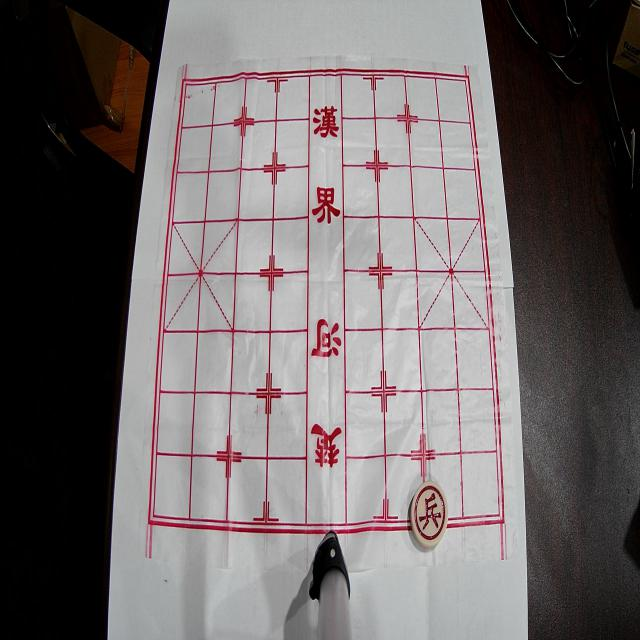red-soldier: (410, 481, 448, 548)
